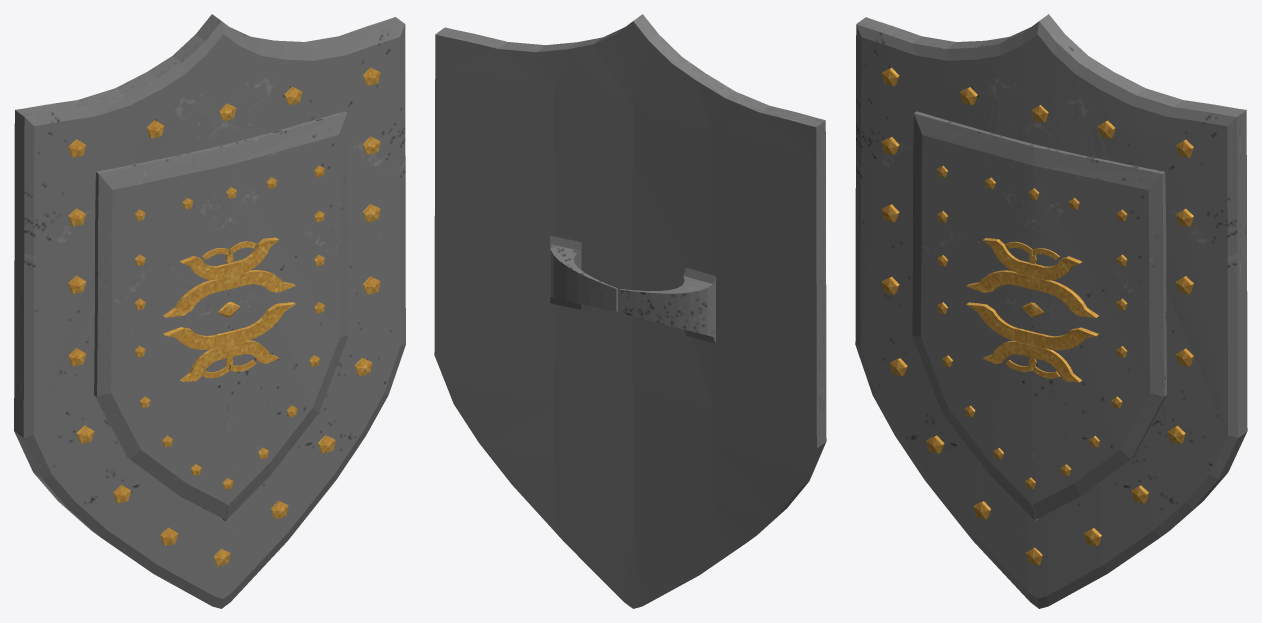
Rendered from shield.fbx.
3 views of the same model, side by side, from view 1: azimuth 30°, elevation 25°; view 2: azimuth 150°, elevation 25°; view 3: azimuth 330°, elevation 25° (orthographic).
Parts seen in each view (by area): view 1: Platonic; view 2: Platonic; view 3: Platonic.
Boxes of the visible parts, <box> form: Platonic: <box>14,14,405,608</box>; Platonic: <box>434,14,826,608</box>; Platonic: <box>855,14,1247,608</box>.
Bounding box in the file's own units: 4.57 × 6.72 × 0.7274.
1 material, 1 textured.
